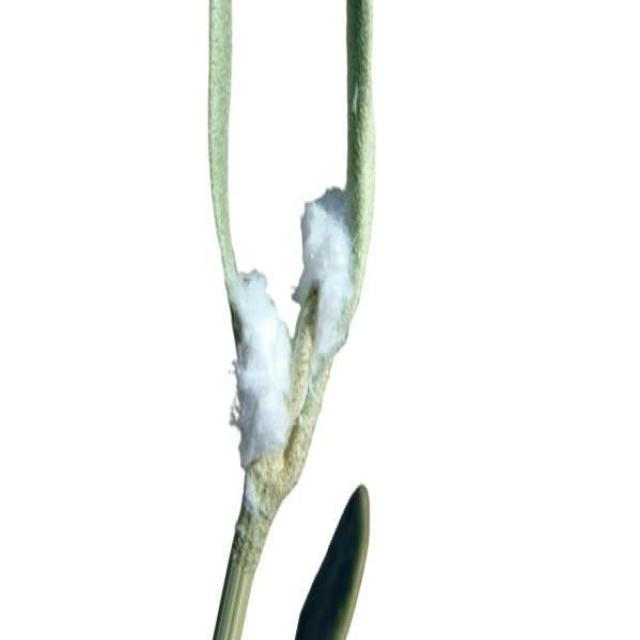Psyllid: (225, 269, 307, 470), (292, 189, 365, 371)
